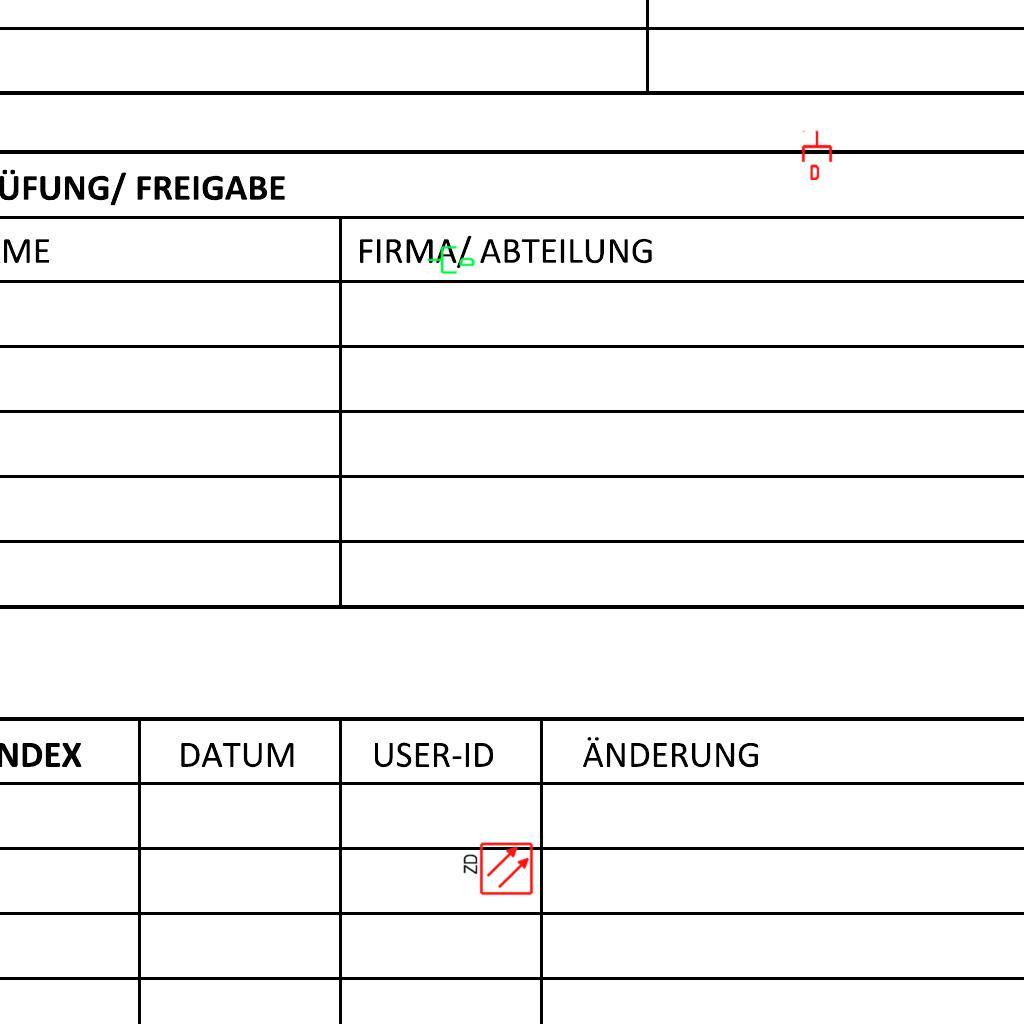Datenanschluss_einfach: (426, 242, 476, 276), (800, 130, 834, 180)
ZD_Melder_in_Zwischendecke_mit_Revisionsoeffnung_mind_40_x_40_cm: (460, 841, 534, 898)
